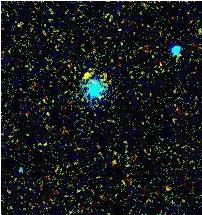star: (71, 60, 101, 90)
